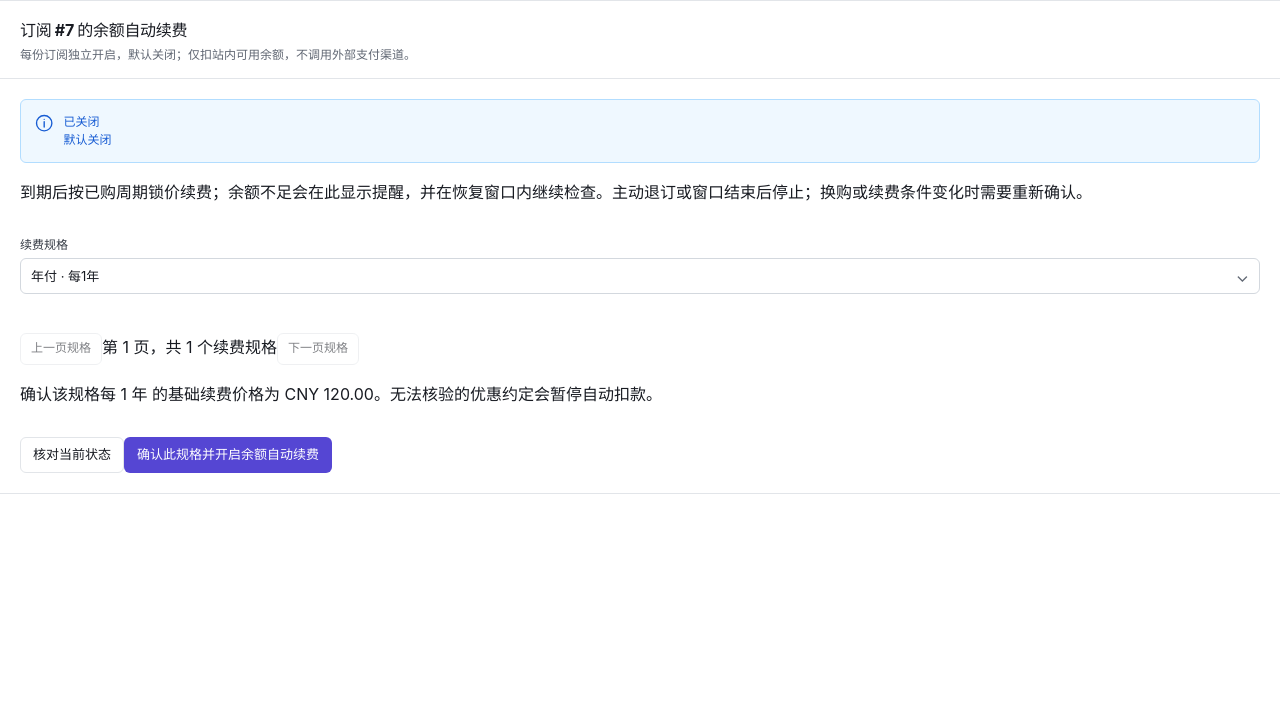
Test: reads a quote and requires explicit confirmation before enabling; sends no client amount
This screenshot has width=1280, height=720.
What coordinates should you click on to do the following:
click the button "确认此规格并开启余额自动续费"
I would click on:
 (228, 455)
Its box is [124,437,332,473].
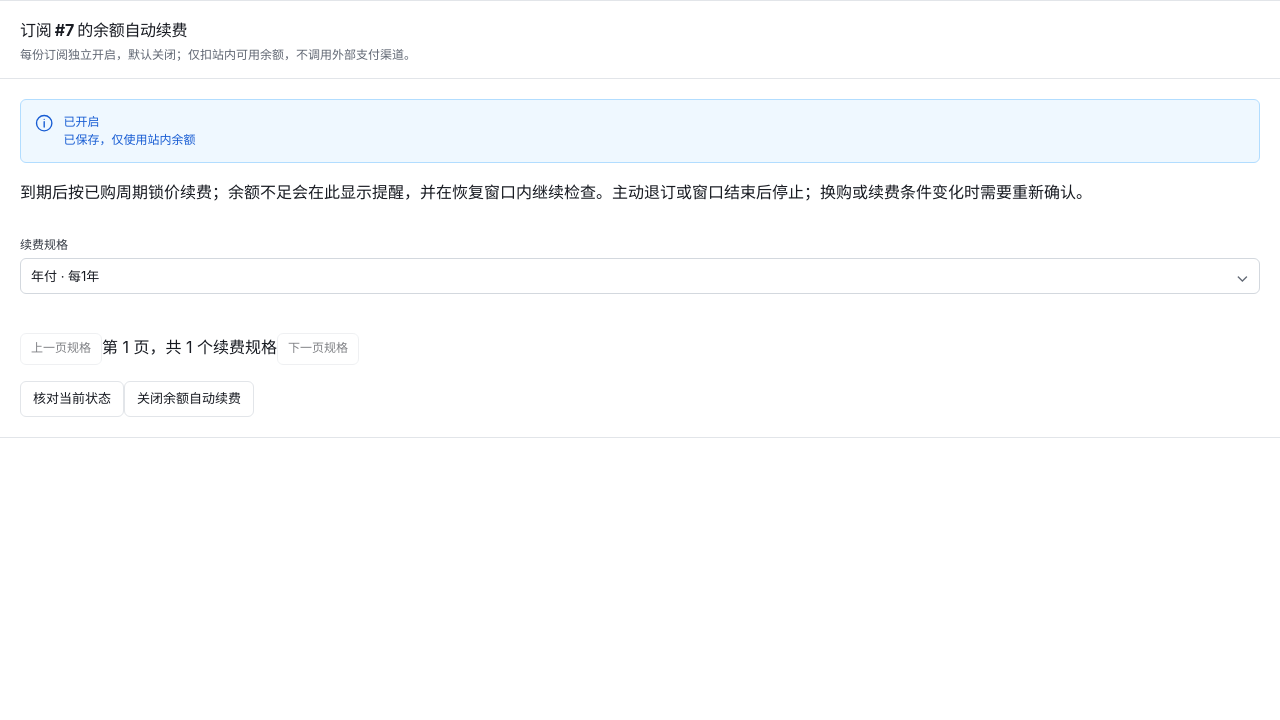
Now the text "已保存，仅使用站内余额" is shown, box [63,132,195,147]
